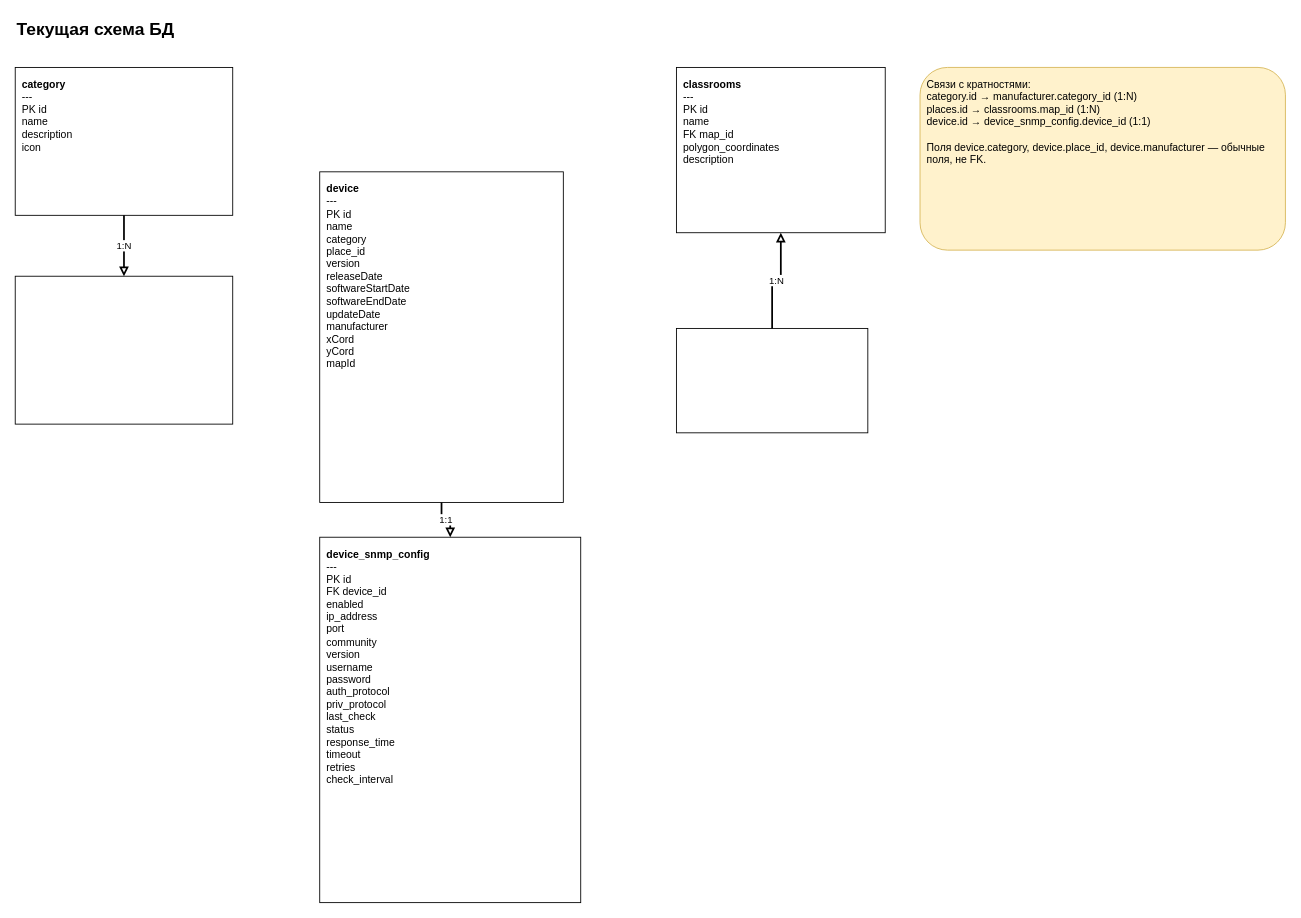
The diagram is 1301 pixels wide and 918 high, and some of its shapes have lost their labels. The box of each missing label's shape, as (x1, y1, x2, y2) in pixels:
manufacturer --- PK id name description FK category_id: (14, 275, 233, 424)
places --- PK id name: (676, 328, 868, 433)
